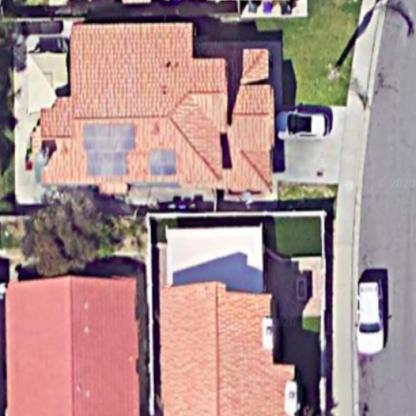car: (350, 266, 389, 363), (274, 97, 332, 144)
solar_panel: (76, 111, 141, 180), (147, 139, 185, 181)
